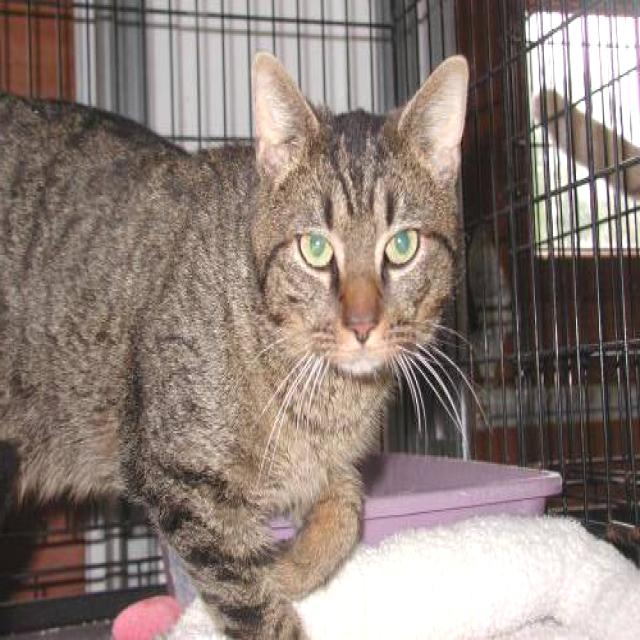Kucing: (21, 55, 514, 608)
